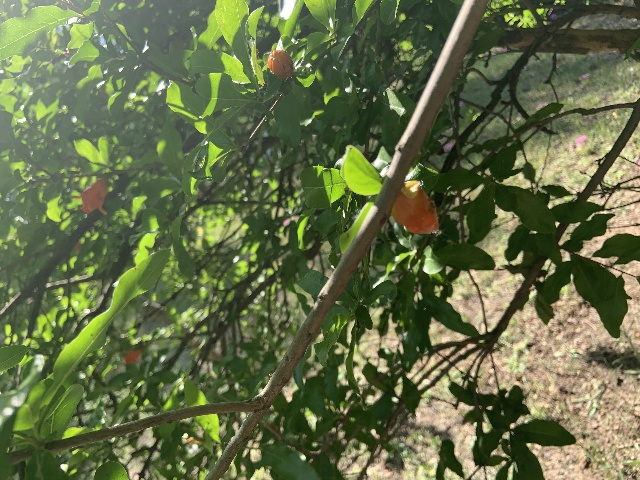bud: (392, 187, 437, 234), (267, 49, 293, 78)
flower: (71, 178, 107, 214)
